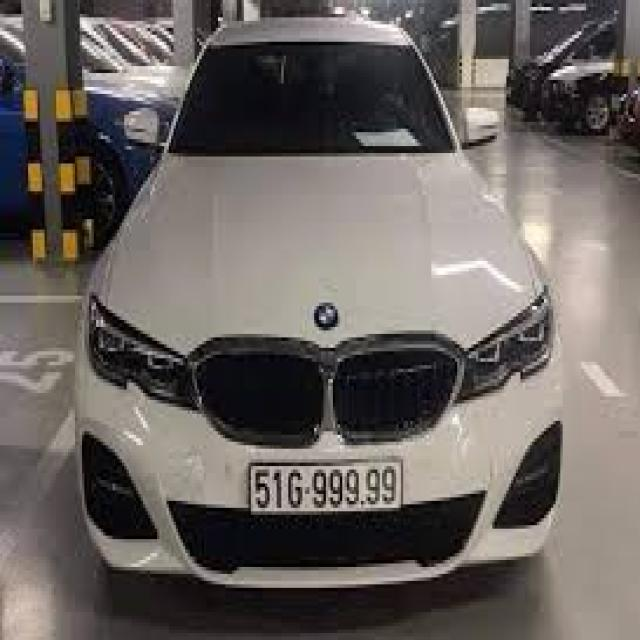bien_so: (241, 444, 414, 550)
